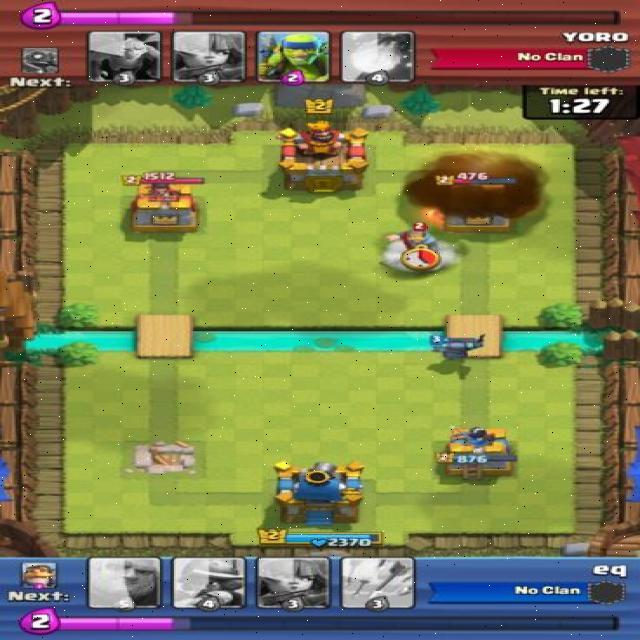EKingTower: (278, 127, 364, 196)
EKnight: (392, 227, 445, 273)
EnemyPrincessTower: (129, 178, 202, 234), (443, 177, 516, 232)
OMiniPekka: (424, 328, 486, 366)
OwnKingTower: (274, 459, 363, 529)
OwnPrincessTower: (447, 424, 513, 487)
TowerDown: (124, 444, 203, 480)
